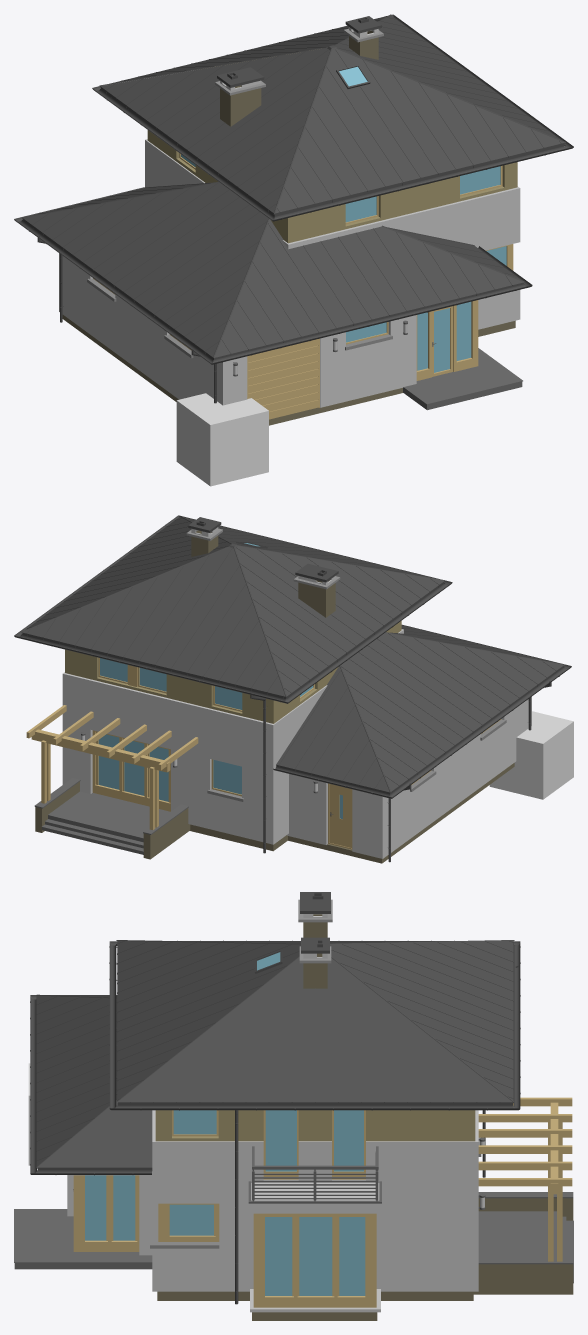
Rendered from House_demo_2.glb.
3 views of the same model, one above another, from view 1: azimuth 30°, elevation 25°; view 2: azimuth 150°, elevation 25°; view 3: azimuth 270°, elevation 25° (orthographic). The views are drawn at different scales.
Parts seen in each view (by area): view 1: Bambo_House, Cube; view 2: Bambo_House, Cube; view 3: Bambo_House.
Boxes of the visible parts, x1,y1,x2,y2 form: Bambo_House: [14, 14, 573, 425]; Cube: [176, 393, 268, 486]; Bambo_House: [14, 515, 571, 863]; Cube: [489, 711, 573, 799]; Bambo_House: [14, 892, 573, 1320].
Size of the model in its own units: 13.68 by 9.94 by 14.54.
